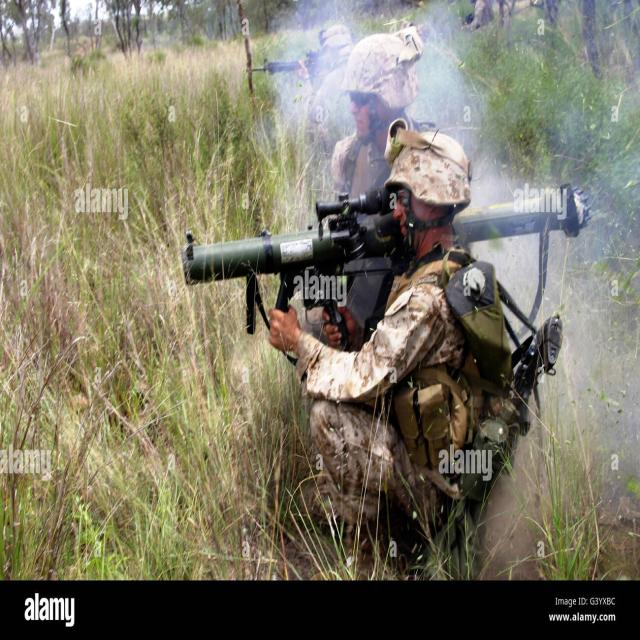bazooka: (166, 156, 591, 349)
